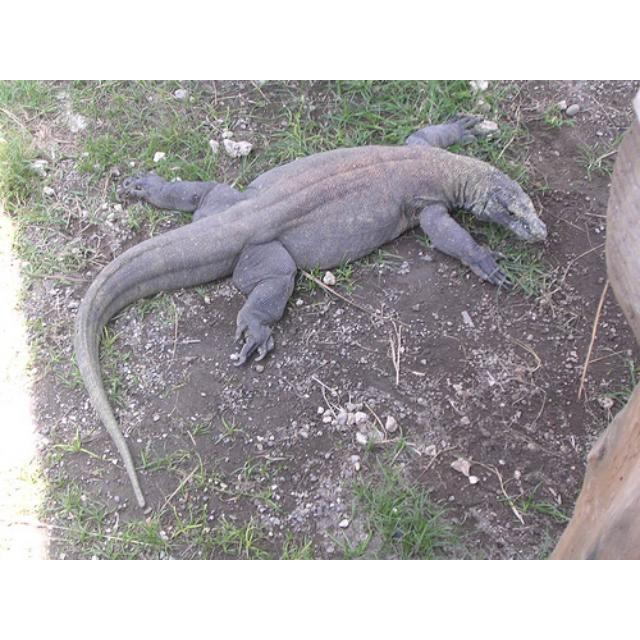KomodoDragon: (71, 111, 548, 506)
